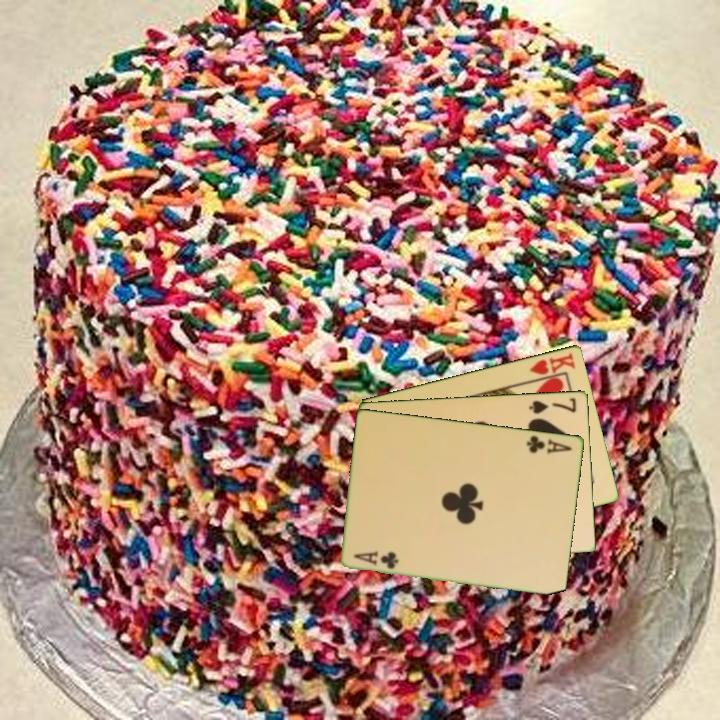7s: (526, 394, 579, 416)
Ac: (523, 431, 575, 456), (351, 547, 402, 572)
Kh: (525, 349, 578, 383)
